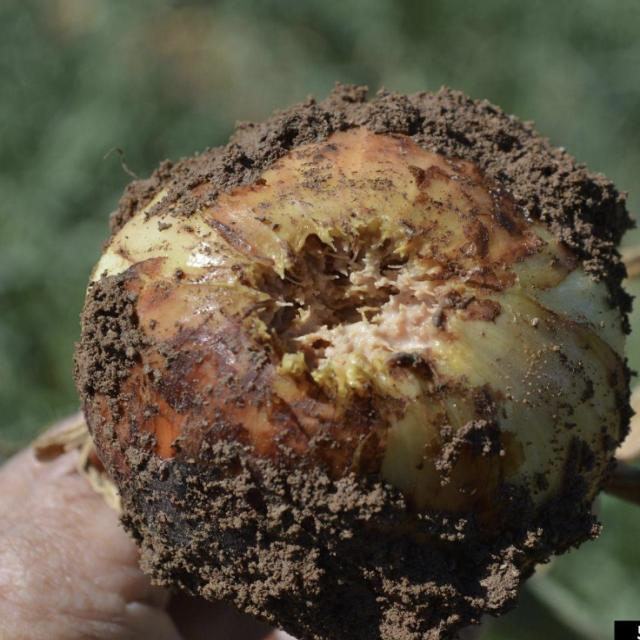mechanical_damage: (75, 84, 630, 639)
